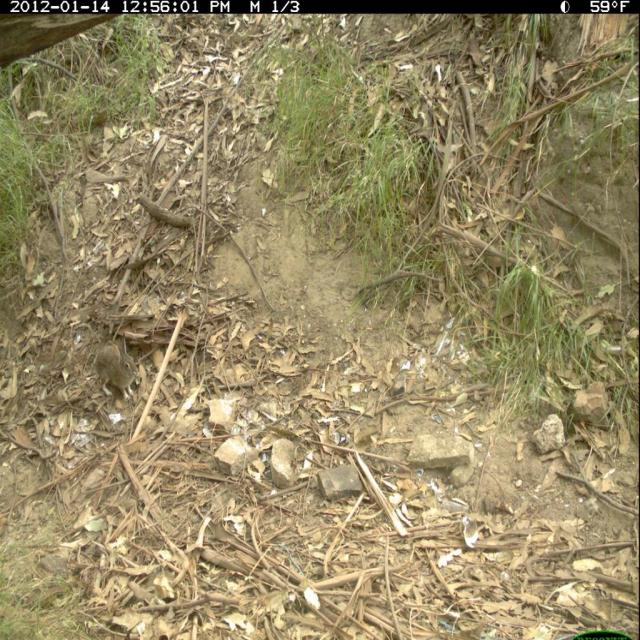rabbit: (93, 331, 141, 404)
